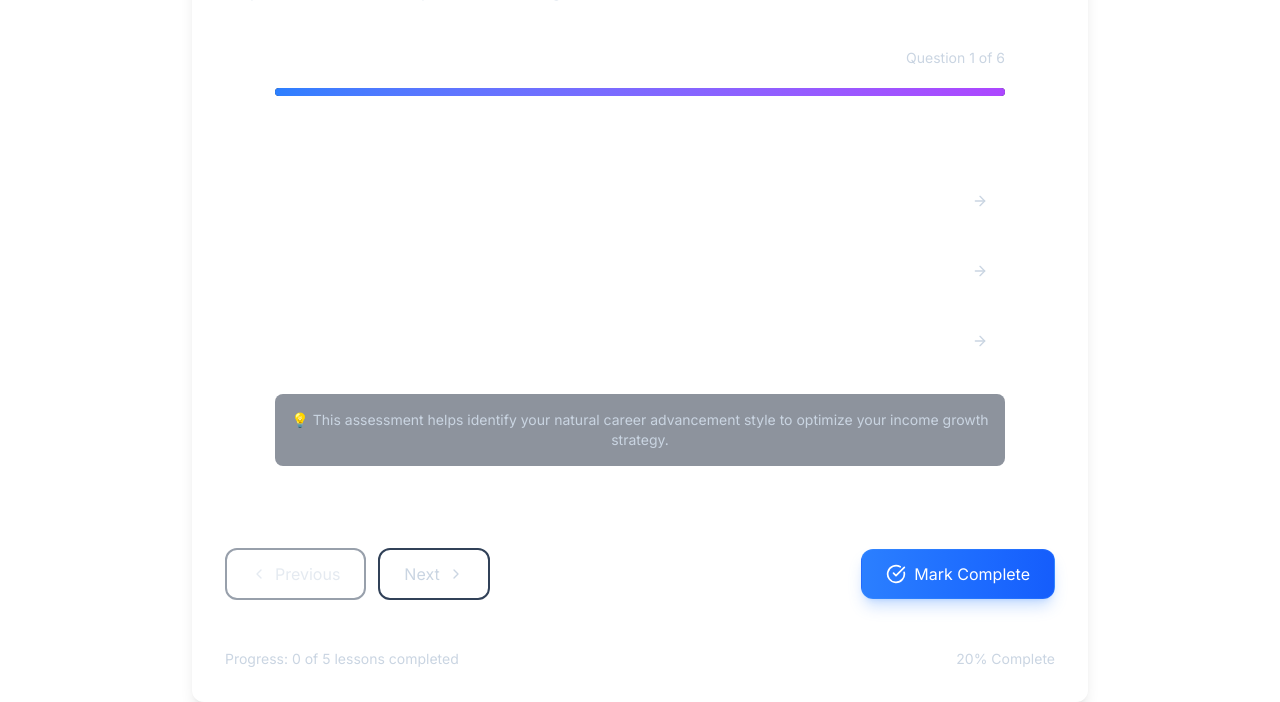
Test case: IncomeCareerLessonEnhanced › maintains lesson state across navigation
(page scrolled)
Complete first lesson
What coordinates should you click on to do the following:
click the button "Mark Complete"
I would click on:
 (958, 574)
Its box is [861, 549, 1055, 599].
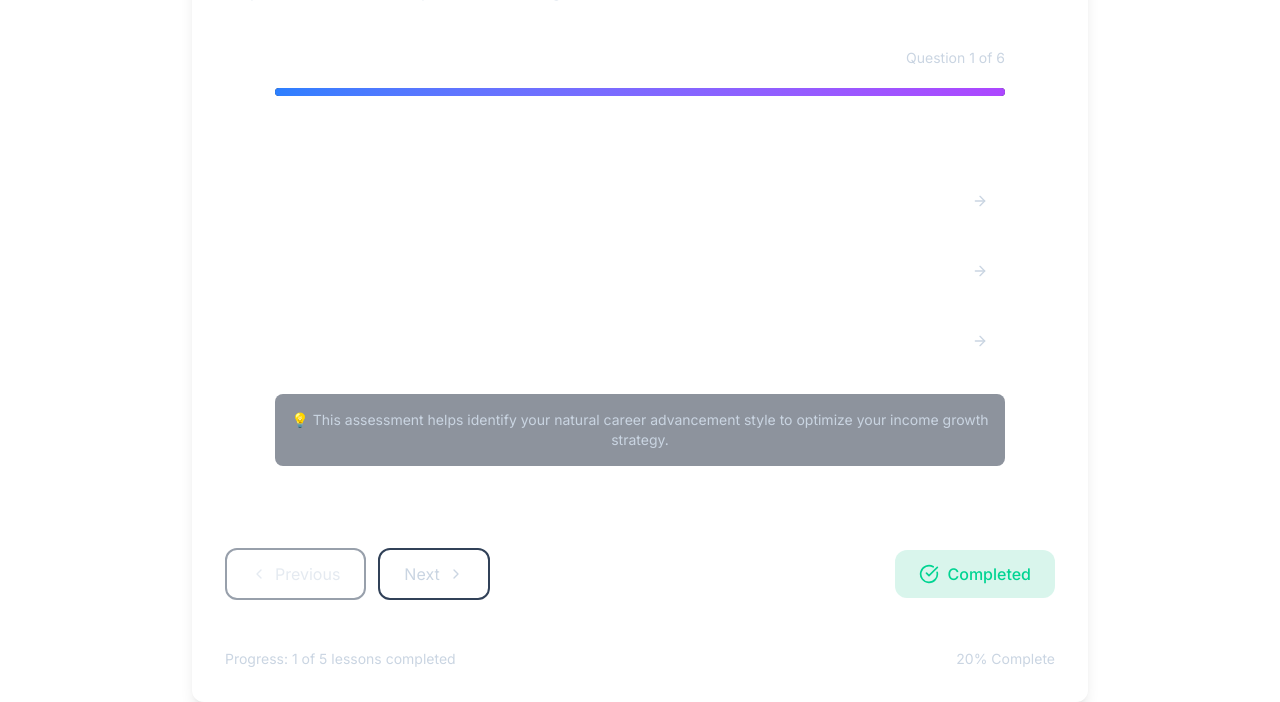
Navigate to next lesson and back
What coordinates should you click on to do the following:
click the button "Next"
I would click on:
 (434, 574)
Its box is [378, 548, 490, 600].
(page scrolled)
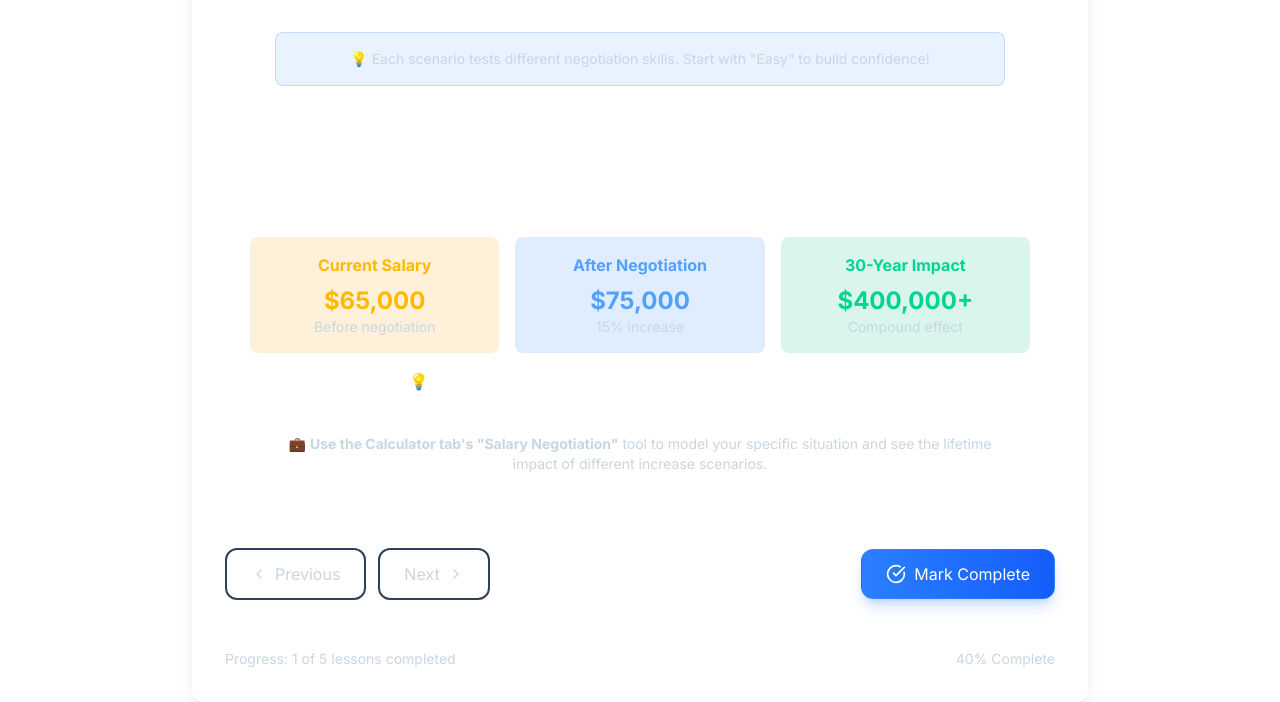
What coordinates should you click on to do the following:
click the button "Previous"
I would click on:
 (296, 574)
Its box is [225, 548, 366, 600].
(page scrolled)
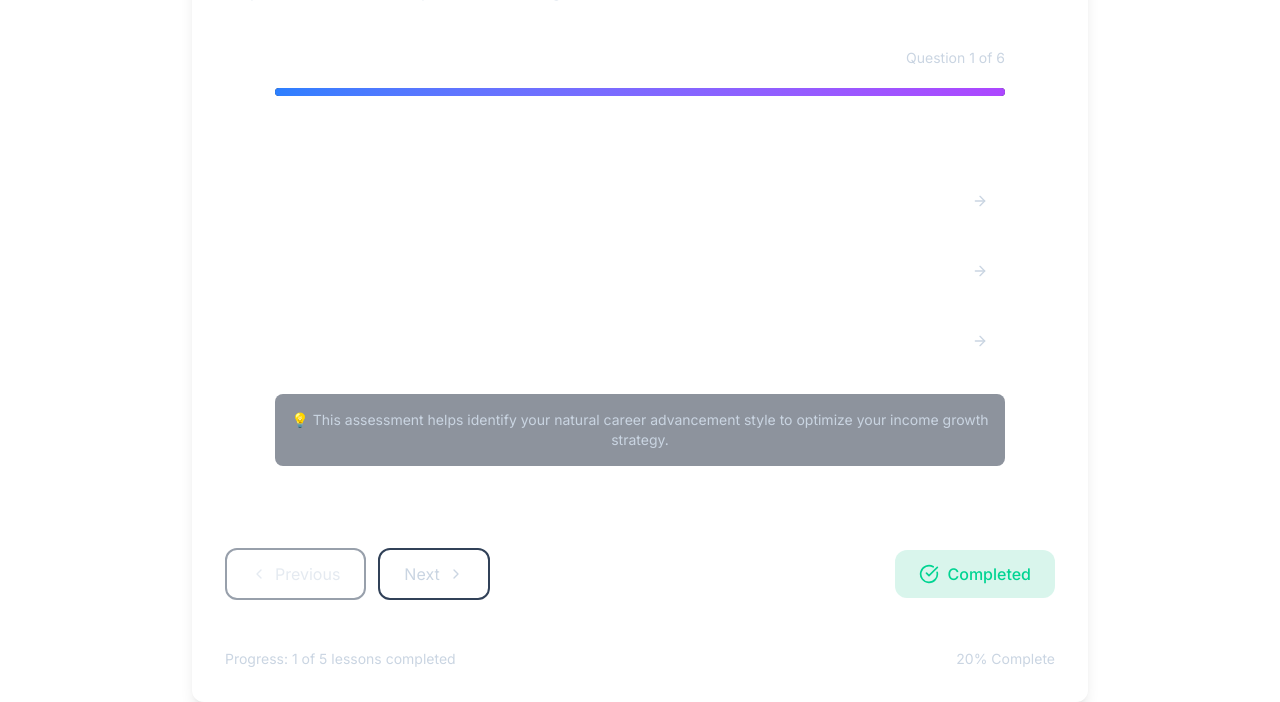
expect the text "Completed" is shown: met, box [896, 550, 1055, 598]
